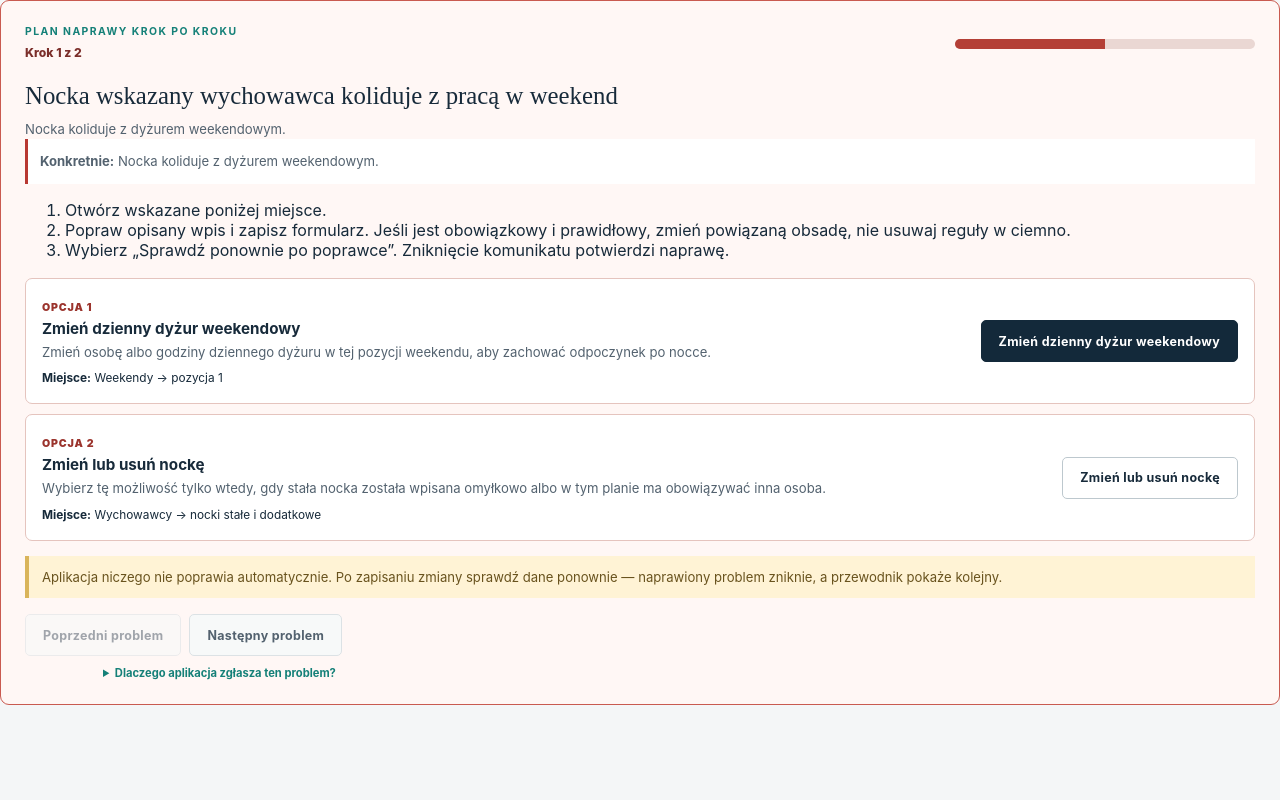
komponenty raportowe › prowadzi krok po kroku przez problemy i pokazuje warianty naprawy
Check: the text "Krok 1 z 2" is shown, box [25,45,82,60]
Check: the element named "Proponowane sposoby naprawy" shows "Opcja 2", box [25,278,1255,541]
Click the button "Następny problem". click: point(266, 635)
box: [190,614,342,656]
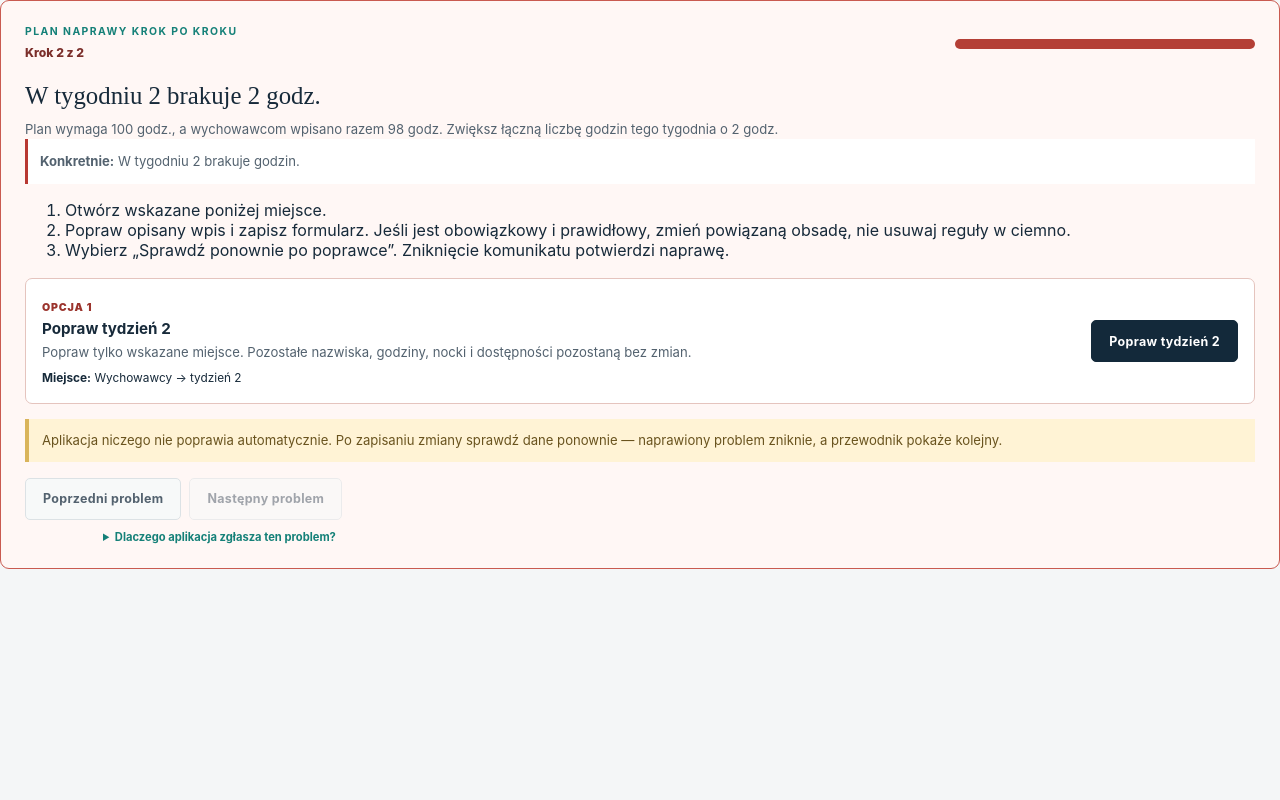
Check: the text "Krok 2 z 2" is shown, box [25,45,84,60]
Check: the heading "W tygodniu 2 brakuje 2 godz." is shown, box [25,82,321,109]
Check: the button "Następny problem" is disabled, box [190,478,342,520]
